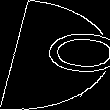O_W: (5, 30, 105, 80)
